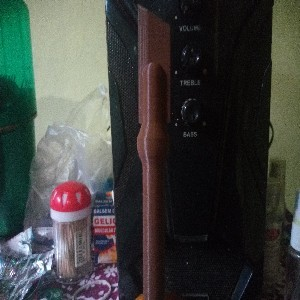cutter: (135, 3, 174, 300)
